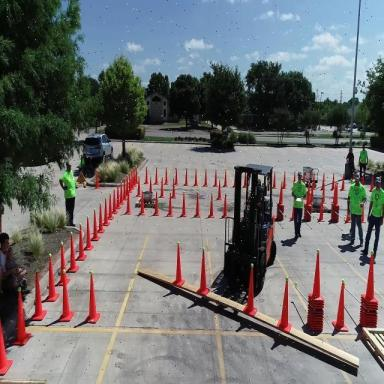forklift: (217, 164, 277, 304)
